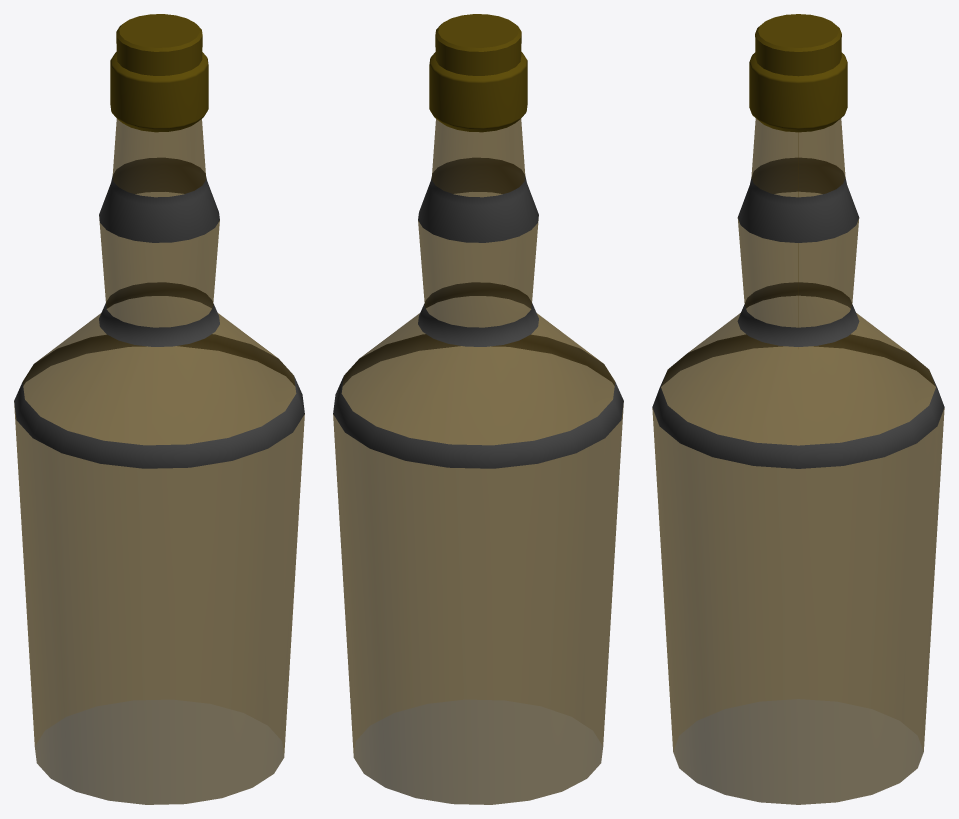
File: RumBottle.fbx
3 renders of one model, left to right at view 1: azimuth 30°, elevation 25°; view 2: azimuth 150°, elevation 25°; view 3: azimuth 270°, elevation 25°, orthographic.
Parts seen in each view (by area): view 1: WhiskyRum; view 2: WhiskyRum; view 3: WhiskyRum.
Part boxes in pixels (x1,y1,x2,y2): WhiskyRum: (14,14,304,804); WhiskyRum: (333,14,623,804); WhiskyRum: (652,14,944,804).
Bounding box in the file's own units: 1.23 × 3.35 × 1.23.
